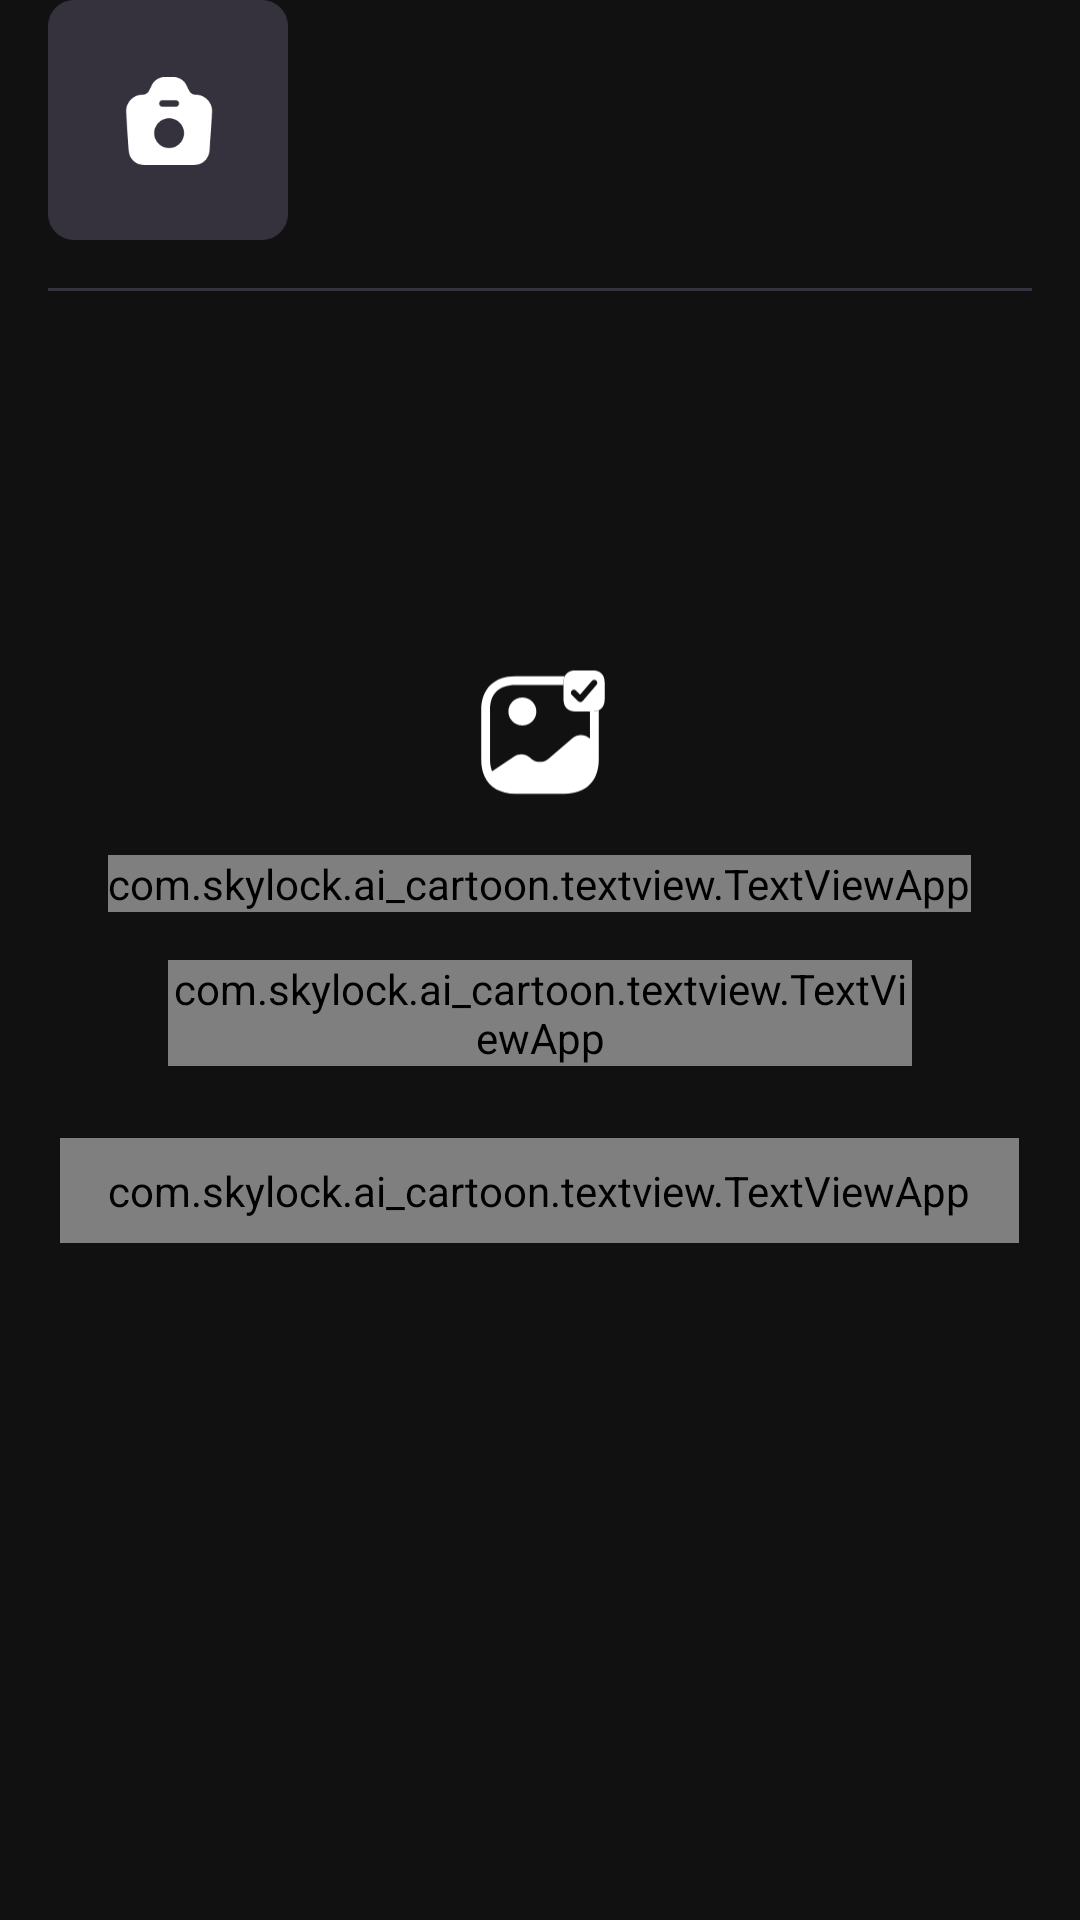

Where to tap for icons on this 1080 × 1920 app screen, as (x=x, y=y):
camera: (x=168, y=120)
